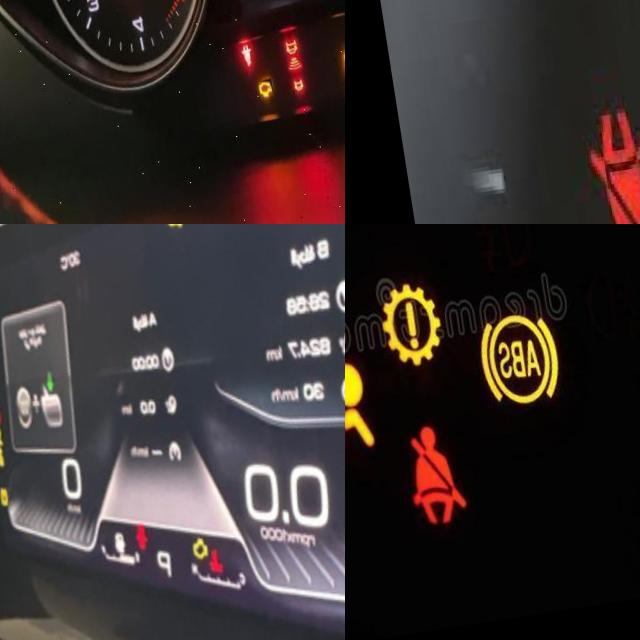Doors: (117, 521, 139, 559)
Engine cooling system: (189, 551, 214, 585)
Seat Belt: (574, 115, 640, 224)
